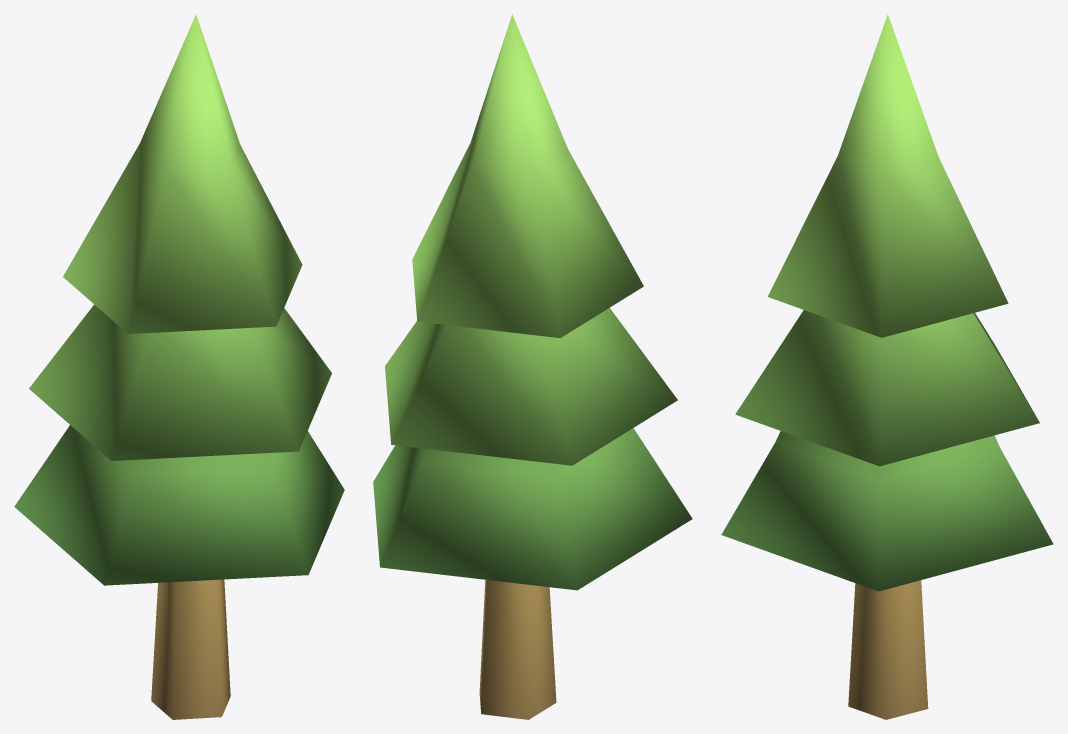
Rendered from Pohon_1.fbx.
3 views of the same model, side by side, from view 1: azimuth 30°, elevation 25°; view 2: azimuth 150°, elevation 25°; view 3: azimuth 270°, elevation 25° (orthographic).
Visible parts, largest first — view 1: Pohon_1.013; view 2: Pohon_1.013; view 3: Pohon_1.013.
Part boxes in pixels (bbox=[...]): Pohon_1.013: bbox=[14, 14, 344, 719]; Pohon_1.013: bbox=[373, 14, 692, 719]; Pohon_1.013: bbox=[721, 14, 1053, 719].
Size of the model in its own units: 2303 by 5414 by 2366.
